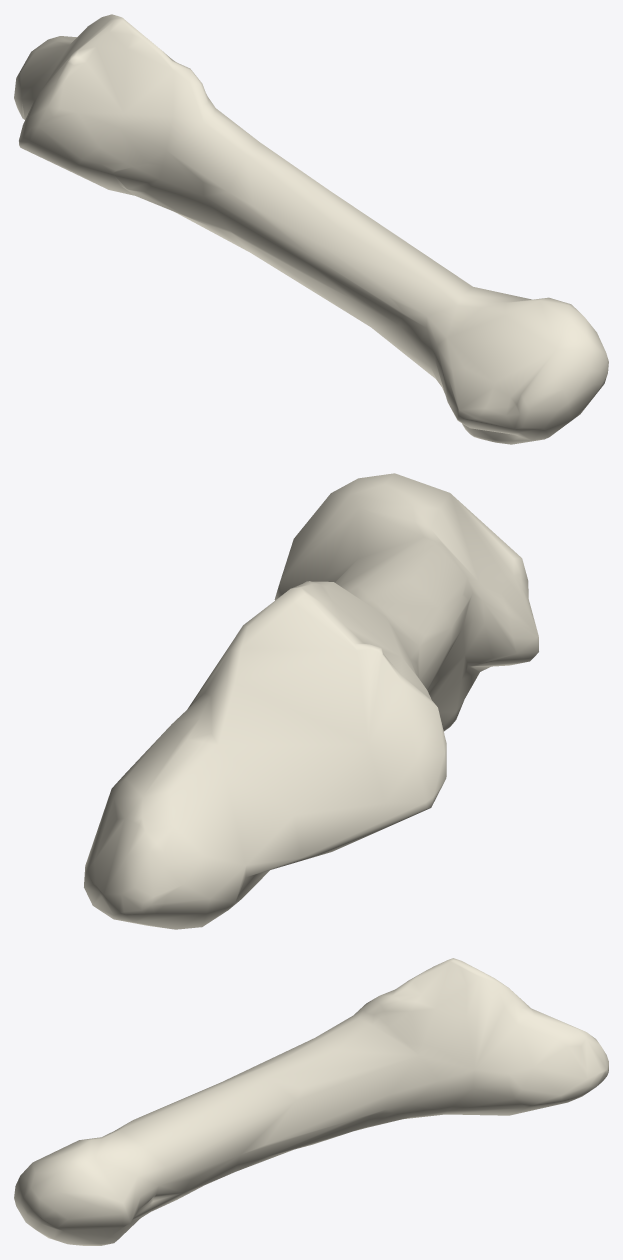
3 views of the same model, one above another, from view 1: azimuth 30°, elevation 25°; view 2: azimuth 150°, elevation 25°; view 3: azimuth 270°, elevation 25° (orthographic). The views are drawn at different scales.
Parts seen in each view (by area): view 1: ZA_1121d2712fdac730; view 2: ZA_1121d2712fdac730; view 3: ZA_1121d2712fdac730.
Boxes of the visible parts, box(x1,y1,x2,y2) form: ZA_1121d2712fdac730: box(14, 14, 608, 444); ZA_1121d2712fdac730: box(84, 473, 538, 929); ZA_1121d2712fdac730: box(14, 958, 608, 1245).
Size of the model in its own units: 0.037 by 0.0312 by 0.0737.
